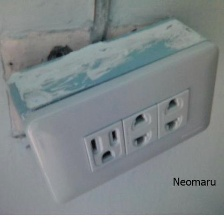three_eye_plug: (3, 8, 223, 206)
